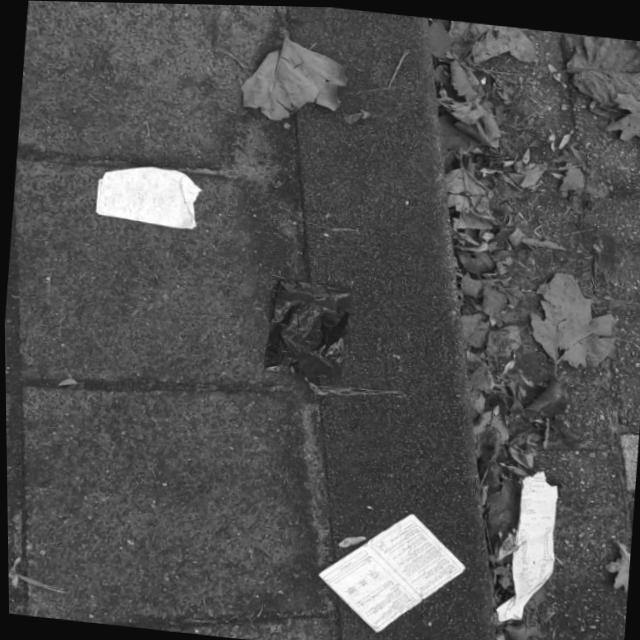Paper: (487, 462, 561, 626), (91, 160, 205, 231)
Plastic: (260, 273, 355, 380)
